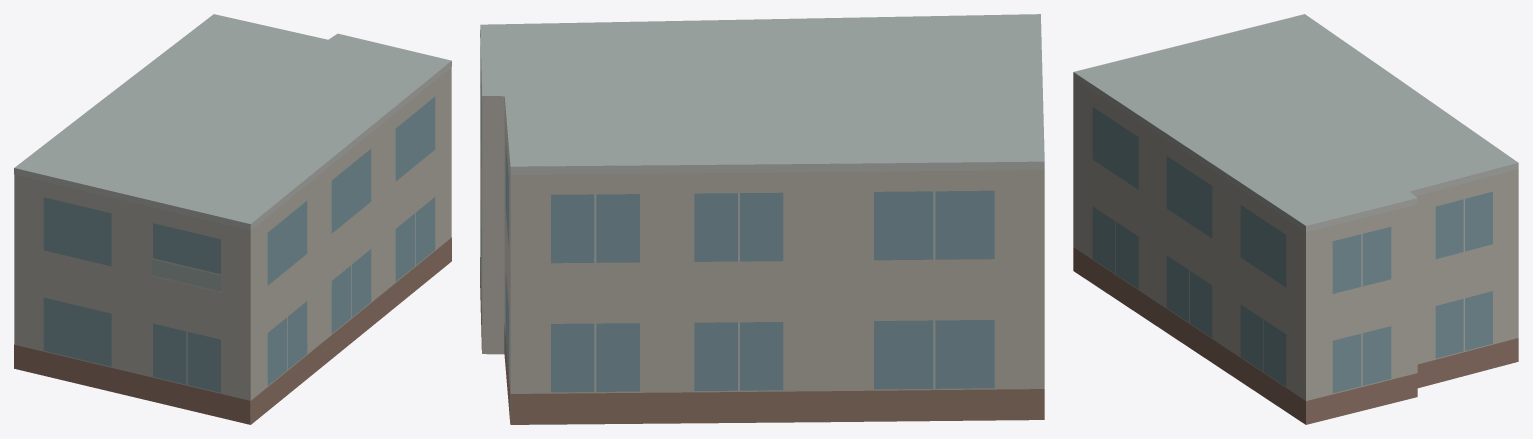
The model's file is survey-upis-33024280.glb.
The picture shows the model from 3 angles, left to right: view 1: azimuth 30°, elevation 25°; view 2: azimuth 150°, elevation 25°; view 3: azimuth 270°, elevation 25°; orthographic projection. The views are drawn at different scales.
Parts seen in each view (by area): view 1: survey-upis-33024280.tmp; view 2: survey-upis-33024280.tmp; view 3: survey-upis-33024280.tmp.
Boxes of the visible parts, x1,y1,x2,y2 form: survey-upis-33024280.tmp: [14, 14, 451, 424]; survey-upis-33024280.tmp: [480, 14, 1044, 424]; survey-upis-33024280.tmp: [1073, 14, 1518, 424].
Size of the model in its own units: 17.49 by 7.65 by 15.52.
